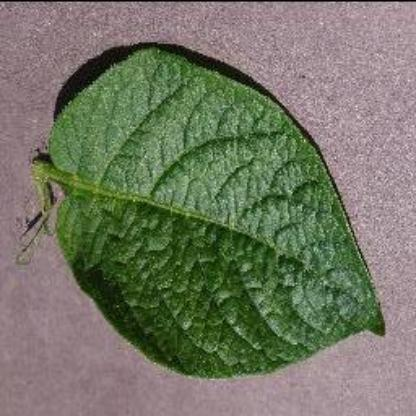Healthy-plant: (34, 6, 400, 404)
